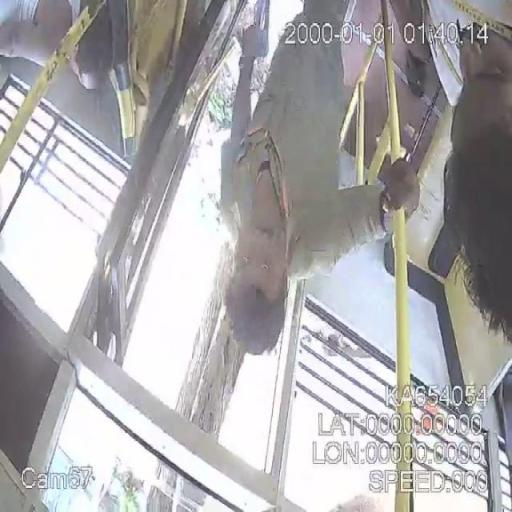persona: (220, 0, 424, 356), (423, 1, 511, 344), (0, 1, 125, 97)
